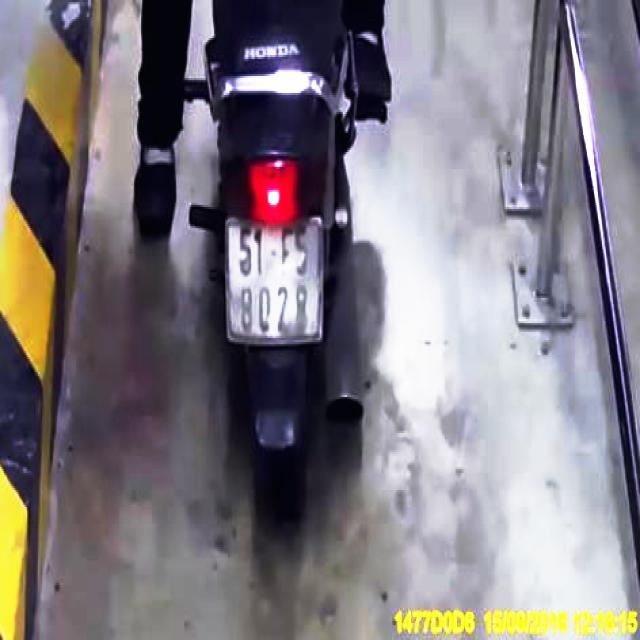license_plate: (228, 217, 324, 341)
